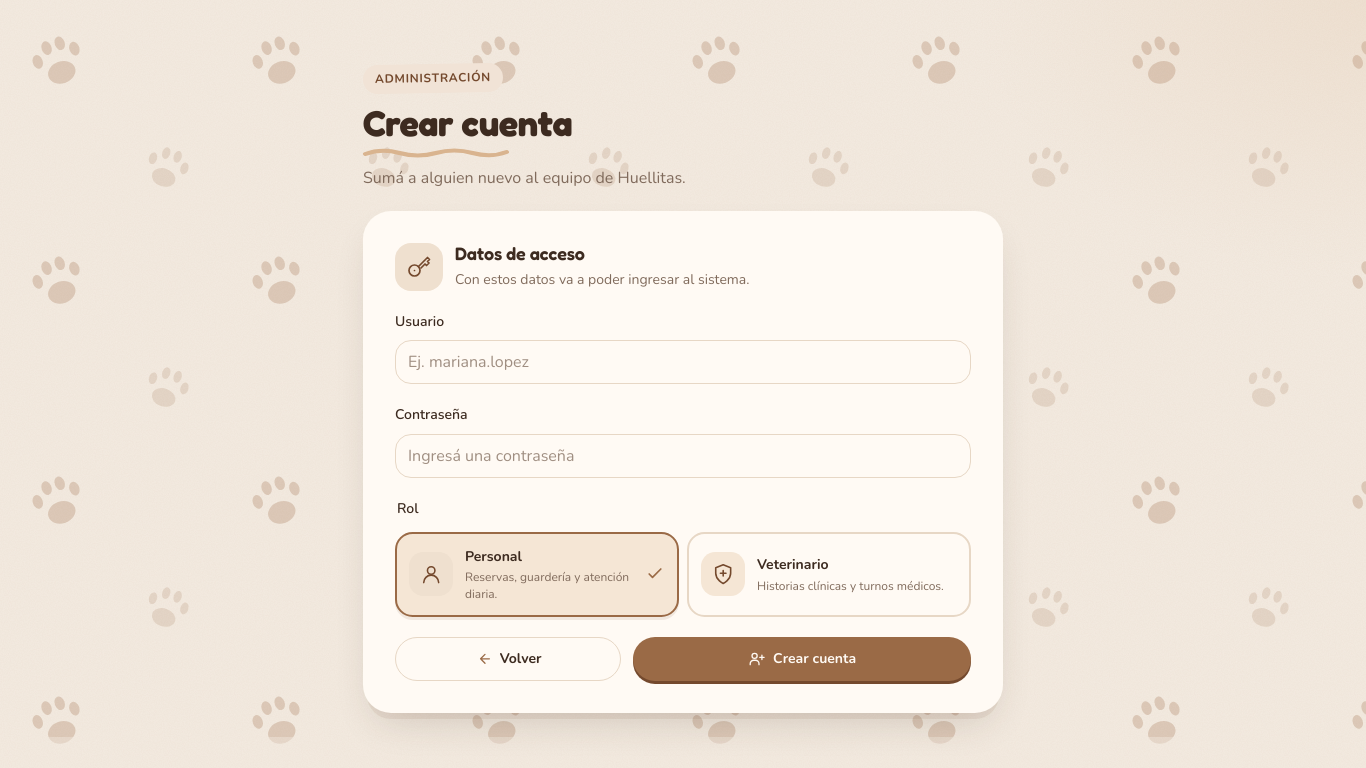
Test case: CrearCuentaPage › muestra un error entendible para un username duplicado y conserva los datos
This screenshot has width=1366, height=768.
Type "recepcion" into the field labelled "Usuario" at (683, 362), box [395,340,971,384]
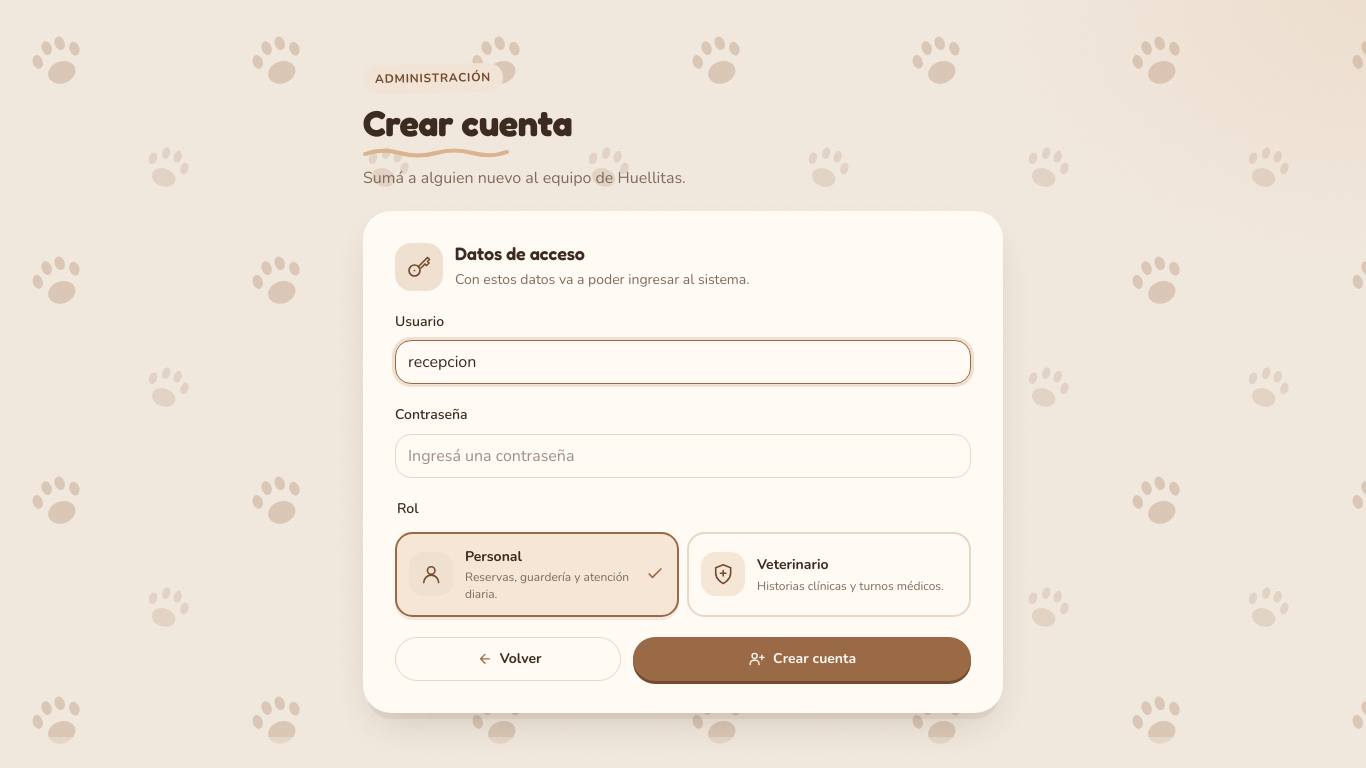
Type "clave-segura" into the password field labelled "Contraseña" at (683, 456), box [395,434,971,478]
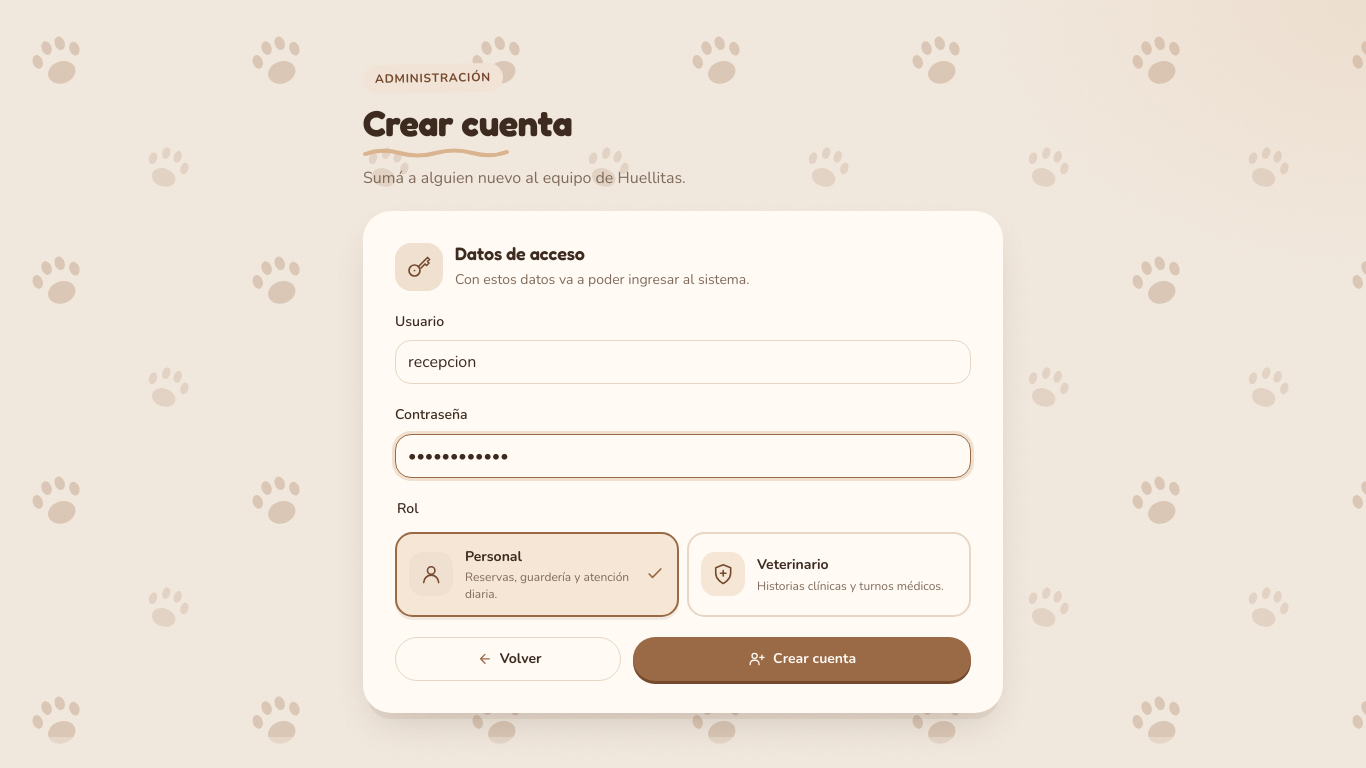
Click the button "Crear cuenta" at (802, 659), box [633,637,971,681]
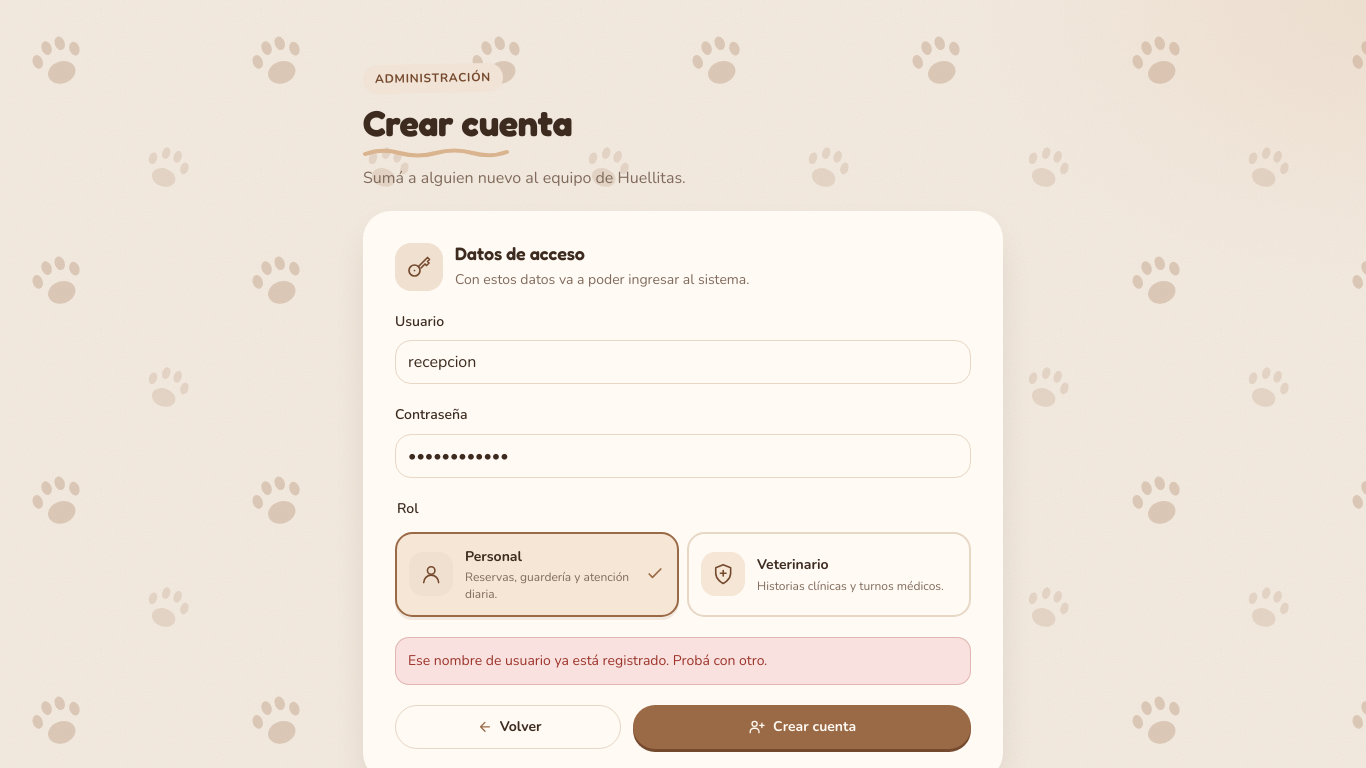
Check: the button "Crear cuenta" is enabled, box [633,705,971,749]
Check: the message reads "Ese nombre de usuario ya está registrado. Probá con otro.", box [408,651,767,670]
